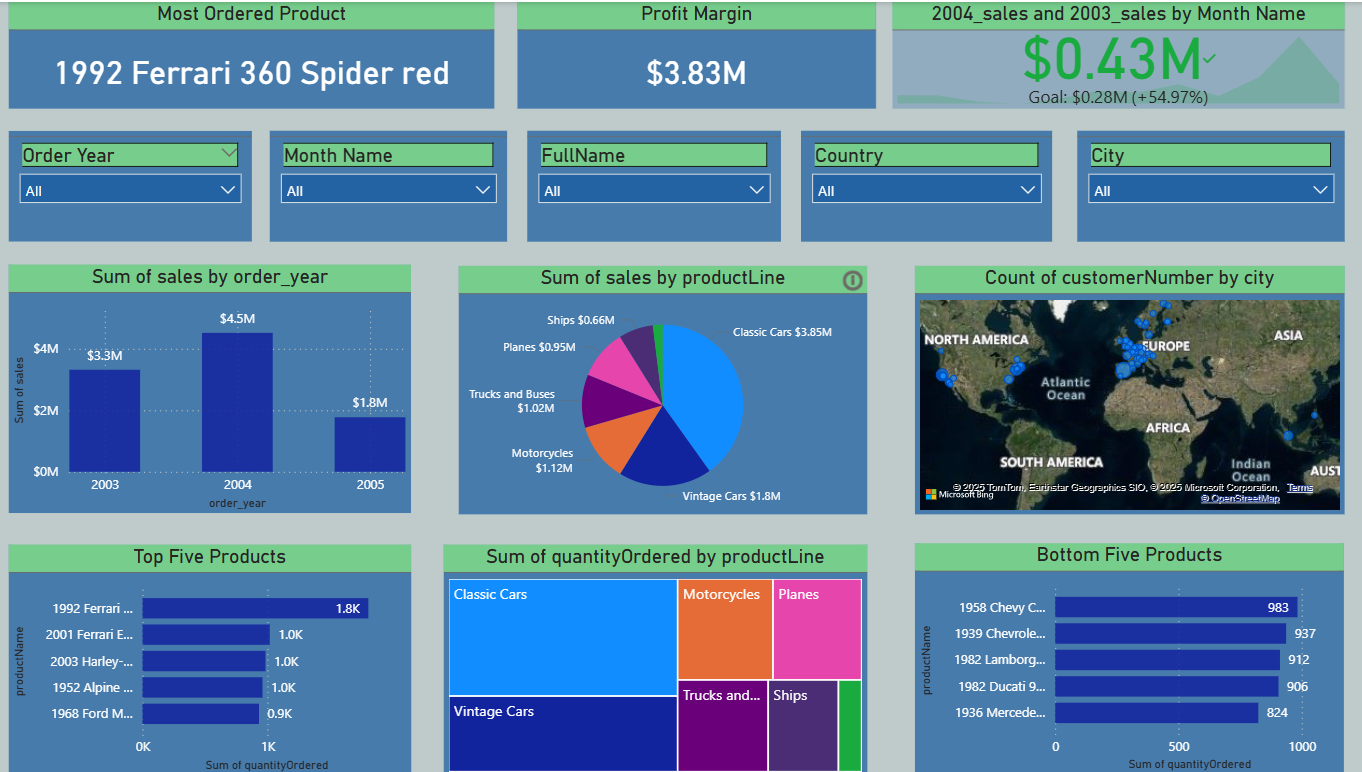

What the dashboard file says about the page in this screenshot:
{"tool":"powerbi","page":{"name":"Page 1","canvas":[1280,720],"ordinal":0},"visuals":[{"type":"barChart","title":"Top Five Products","fields":{"Category":["products.productName"],"Y":["order details.quantityOrdered"]},"box":[16.3,504.7,374.4,215.1],"z":0},{"type":"card","title":"Profit Margin","fields":{"Values":["order details.total_profit"]},"box":[489.5,0,333.7,98.8],"z":1000},{"type":"card","title":"Most Ordered Product","fields":{"Values":["ProductOrderSummary.mostorderedproduct"]},"box":[16.3,0,452.3,98.8],"z":2000},{"type":"pieChart","fields":{"Category":["productlines.productLine"],"Y":["order details.sales"]},"box":[434.9,245.3,380.2,231.4],"z":3000},{"type":"slicer","fields":{"Values":["orders.Month Name"]},"box":[259.3,119.8,220.9,103.5],"z":4000},{"type":"kpi","fields":{"Goal":["orders.2003_sales"],"Indicator":["orders.2004_sales"],"TrendLine":["orders.Month Name"]},"box":[838.4,0,420.9,98.8],"z":5000},{"type":"map","fields":{"Category":["customers.city"],"Size":["orders.customerNumber"]},"box":[859.3,245.3,400,231.4],"z":6000},{"type":"treemap","fields":{"Group":["productlines.productLine"],"Values":["order details.quantityOrdered"]},"box":[420.9,504.7,394.2,215.1],"z":7000},{"type":"columnChart","fields":{"Category":["orders.order_year"],"Y":["order details.sales"]},"box":[16.3,244.2,374.4,231.4],"z":8000},{"type":"slicer","fields":{"Values":["orders.order_year"]},"box":[16.3,119.8,226.7,103.5],"z":9000},{"type":"slicer","fields":{"Values":["employees.FullName"]},"box":[498.8,119.8,236,103.5],"z":10000},{"type":"slicer","fields":{"Values":["employees.country"]},"box":[753.5,119.8,233.7,103.5],"z":11000},{"type":"slicer","fields":{"Values":["employees.city"]},"box":[1010.5,119.8,248.8,103.5],"z":12000},{"type":"barChart","title":"Bottom Five Products","fields":{"Category":["products.productName"],"Y":["order details.quantityOrdered"]},"box":[859,503.6,399.3,215.4],"z":13000},{"type":"actionButton","box":[788.4,244.2,26.7,30.2],"z":14000}]}

Visuals, with their boxes in screenshot pixels (x1, y1, x2, y2), scaled from the page's 1280x720 canvas onto the 1362x772 screenshot:
"Top Five Products" barChart: locate(17, 541, 416, 771)
"Profit Margin" card: locate(521, 0, 876, 106)
"Most Ordered Product" card: locate(17, 0, 499, 106)
pieChart - productlines.productLine x order details.sales: locate(463, 263, 867, 511)
slicer - orders.Month Name: locate(276, 128, 511, 239)
kpi - orders.2003_sales x orders.2004_sales: locate(892, 0, 1340, 106)
map - customers.city x orders.customerNumber: locate(914, 263, 1340, 511)
treemap - productlines.productLine x order details.quantityOrdered: locate(448, 541, 867, 771)
columnChart - orders.order_year x order details.sales: locate(17, 262, 416, 510)
slicer - orders.order_year: locate(17, 128, 259, 239)
slicer - employees.FullName: locate(531, 128, 782, 239)
slicer - employees.country: locate(802, 128, 1050, 239)
slicer - employees.city: locate(1075, 128, 1340, 239)
"Bottom Five Products" barChart: locate(914, 540, 1339, 771)
actionButton: locate(839, 262, 867, 294)
